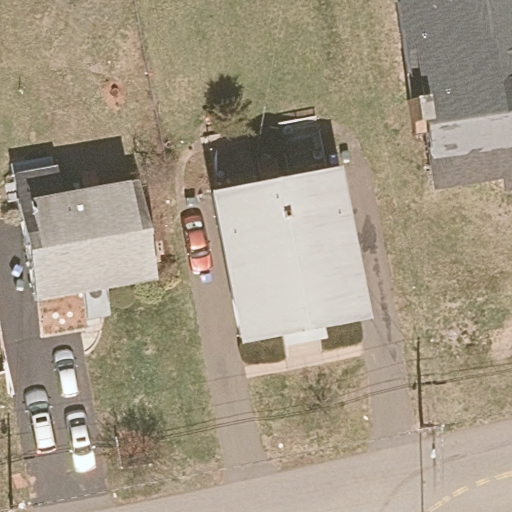DT: (410, 421, 447, 459)
